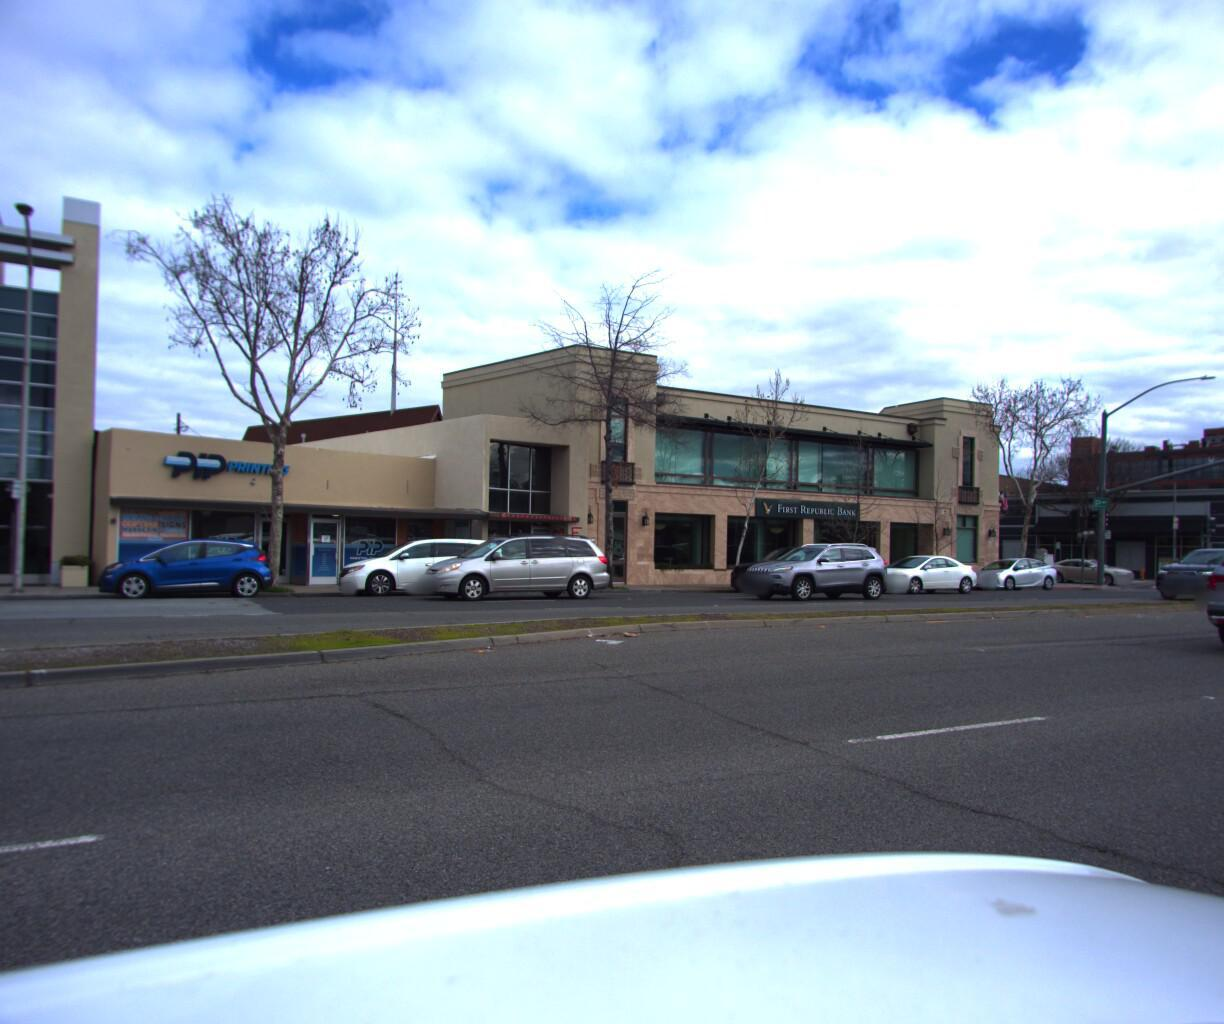car: (406, 529, 615, 602), (84, 531, 282, 603), (320, 529, 524, 597), (731, 533, 896, 599), (711, 539, 858, 594), (855, 549, 985, 592), (1188, 525, 1224, 666), (1140, 545, 1224, 601), (950, 550, 1061, 588), (1031, 550, 1139, 580)
